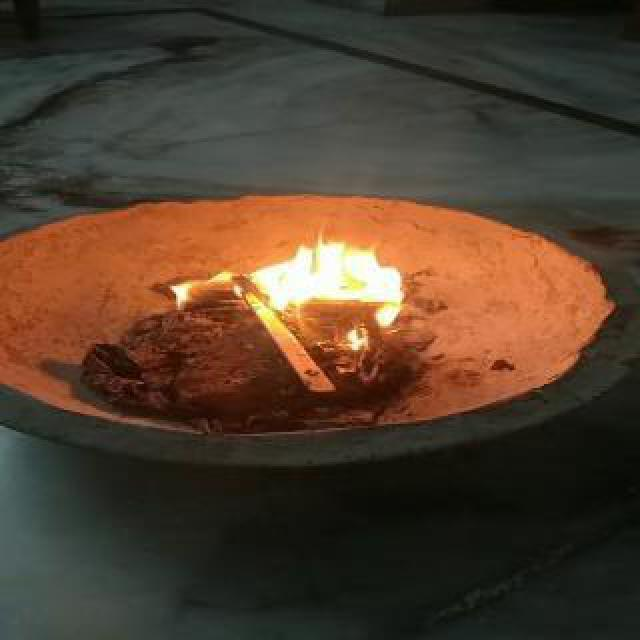Fire: (166, 194, 446, 348)
